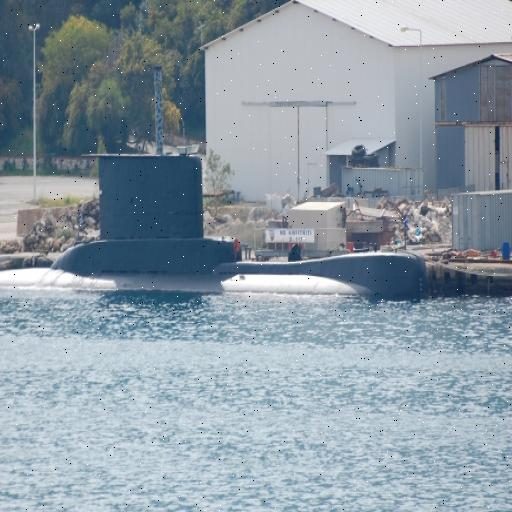submarine: (1, 149, 429, 298)
